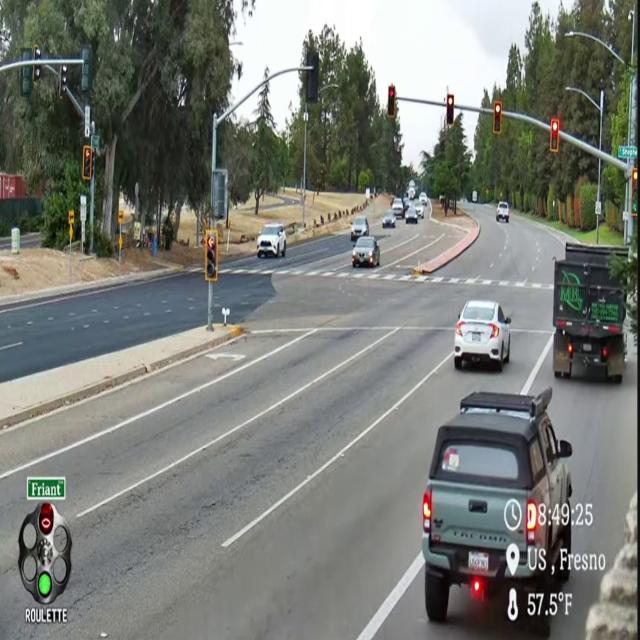car: (422, 387, 577, 637), (454, 301, 511, 371), (257, 224, 286, 257), (352, 237, 379, 268), (351, 216, 369, 241), (496, 201, 509, 223), (382, 210, 396, 228), (392, 198, 404, 218), (405, 206, 418, 223), (414, 202, 424, 218), (403, 197, 410, 213), (419, 192, 427, 205)
traffic signal: (306, 50, 319, 103), (205, 230, 218, 281), (39, 503, 54, 535), (81, 46, 91, 93), (82, 145, 93, 181), (58, 65, 68, 99), (387, 85, 396, 119), (493, 101, 502, 135), (550, 119, 559, 152), (446, 95, 454, 126), (632, 168, 637, 217), (21, 48, 32, 62), (33, 64, 41, 81), (632, 168, 637, 189)
truck: (553, 242, 627, 383)
